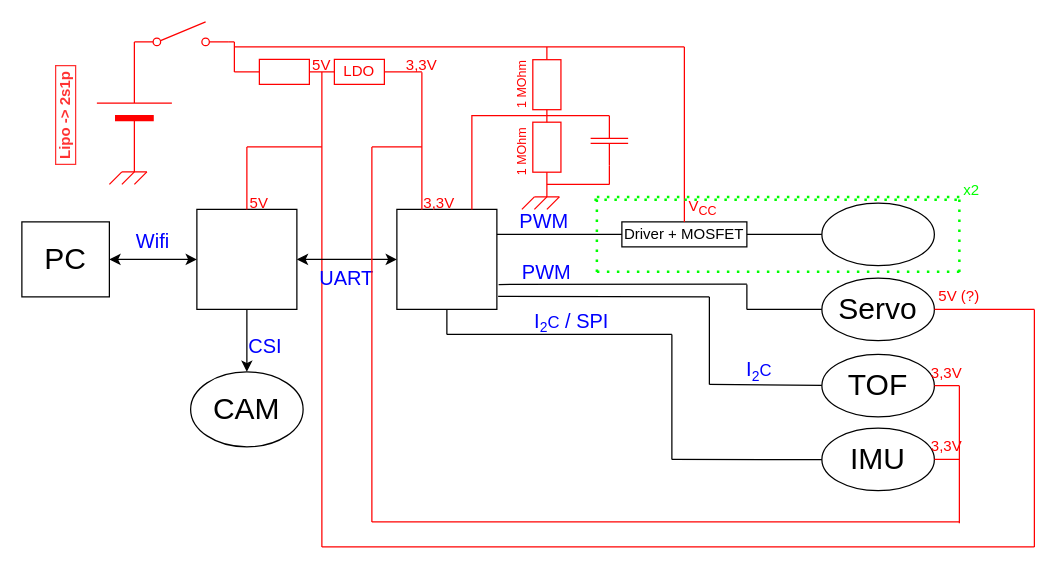
Some shapes in this 1058 by 570 pixel diagram are drawn without their labels. Here are the shapes that lost their labels. From the top down, the box of each, then its label:
(258, 58, 309, 84): BUCK
(96, 46, 172, 172): 7,4V
(821, 202, 934, 266): Moteur
(196, 208, 297, 309): RPI0W
(396, 208, 497, 309): STM32
